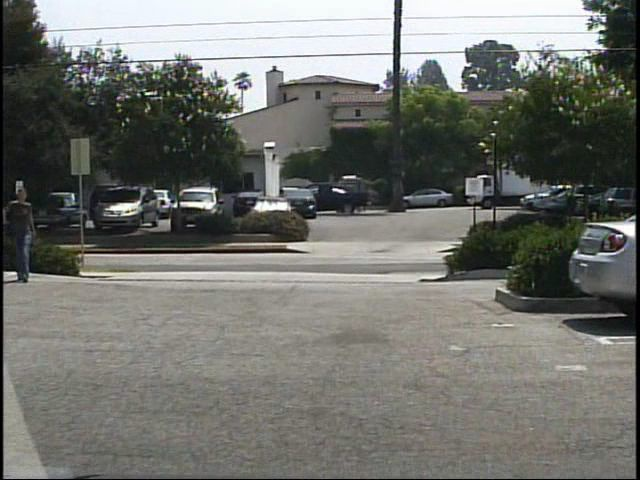person: (9, 186, 46, 282)
